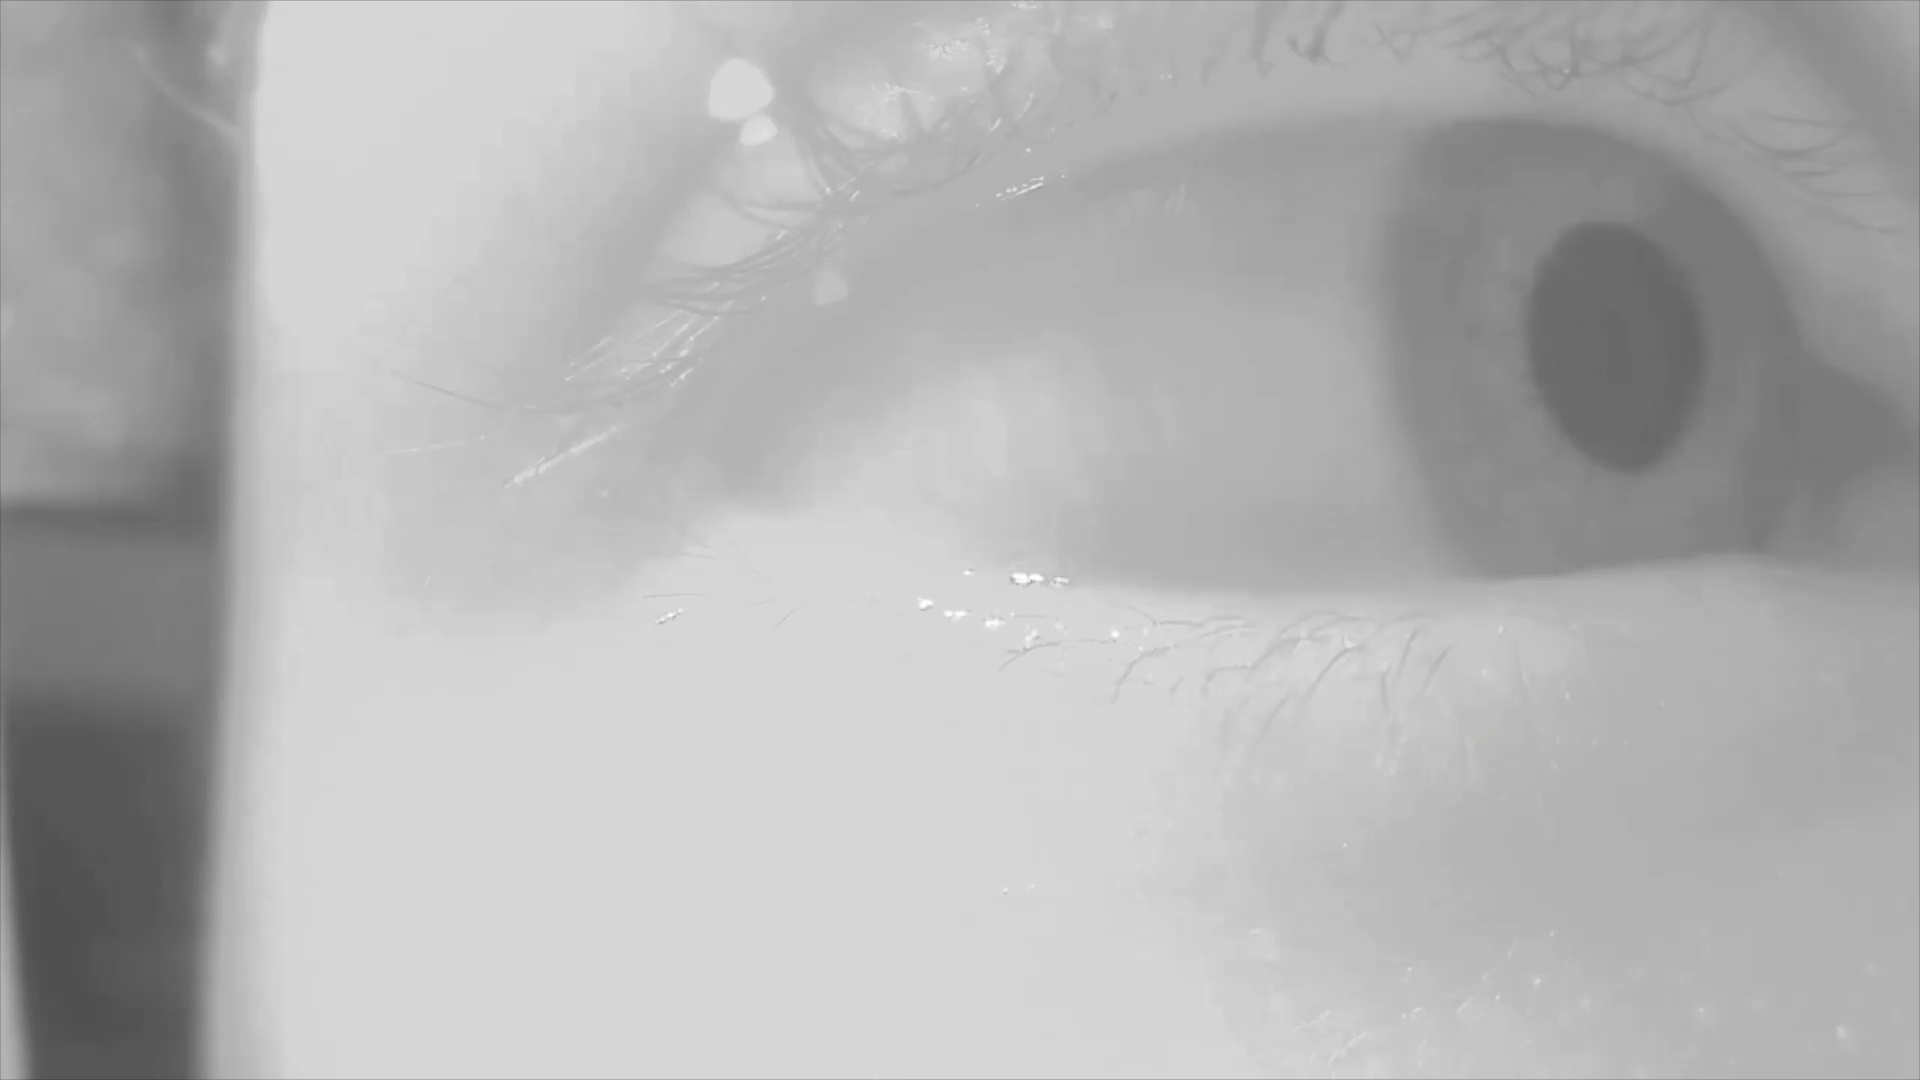pupil: (1527, 223, 1713, 478)
